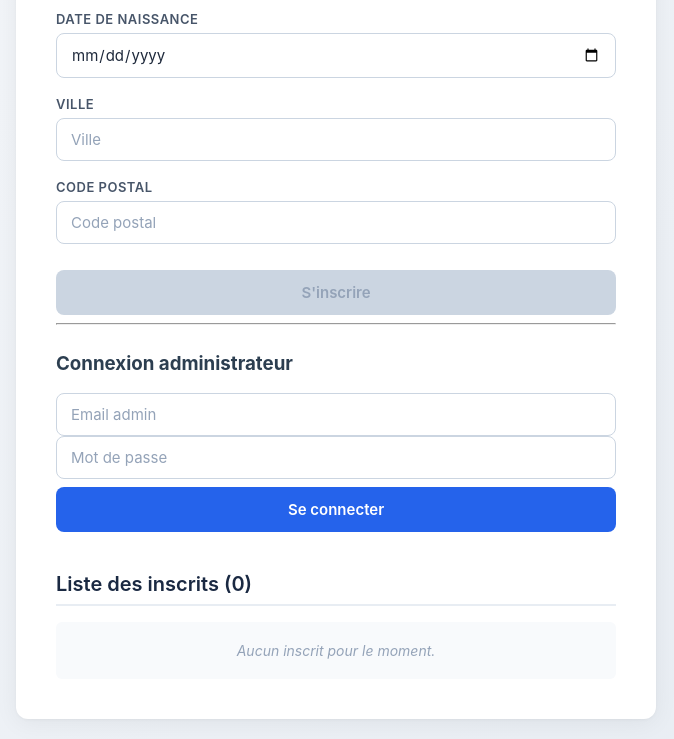
Scenario: Espace administrateur › connexion réussie : affiche le panneau admin et les infos privées
(page scrolled)
Type "loise.fenoll@ynov.com" into the field with test id "login-email". click: (336, 415)
box: [56,393,616,436]
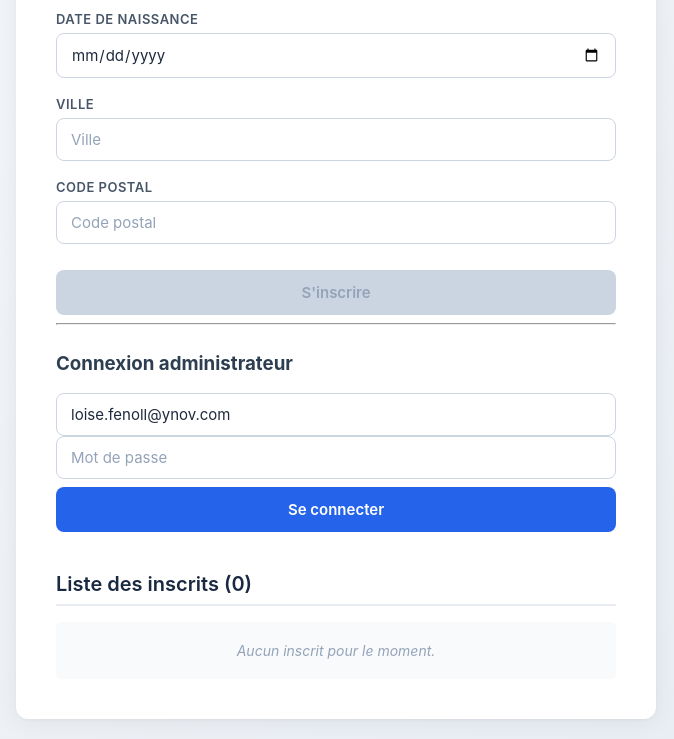
Type "PvdrTAzTeR247sDnAZBr" into the password field with test id "login-password". click: (336, 458)
box: [56,436,616,479]
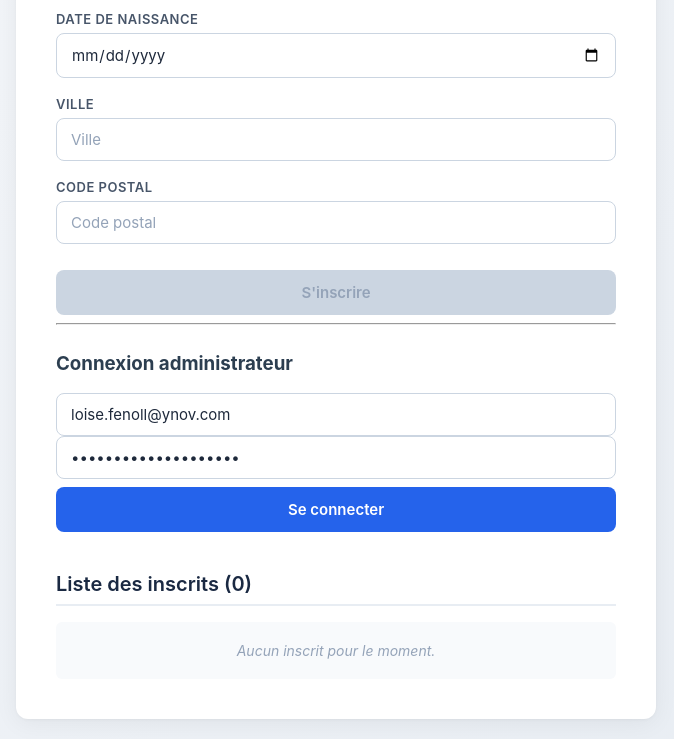
Click the button with test id "login-btn". click: (336, 510)
box: [56,487,616,532]
(page scrolled)
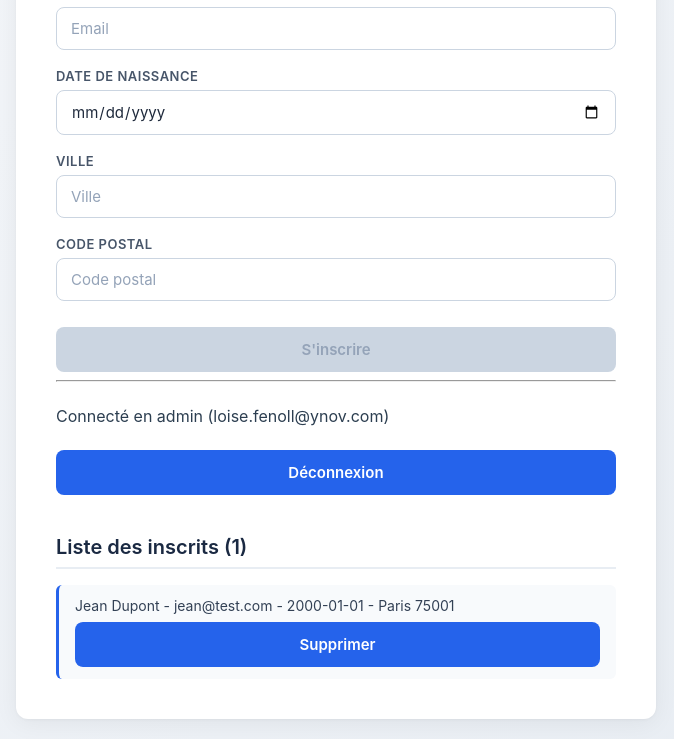
expect the element with test id "admin-panel" is shown: met, box [56,390,616,495]
expect the list item "jean@test.com" is shown: met, box [174,597,272,614]
expect the button with test id "delete-btn" is shown: met, box [75,622,600,667]
